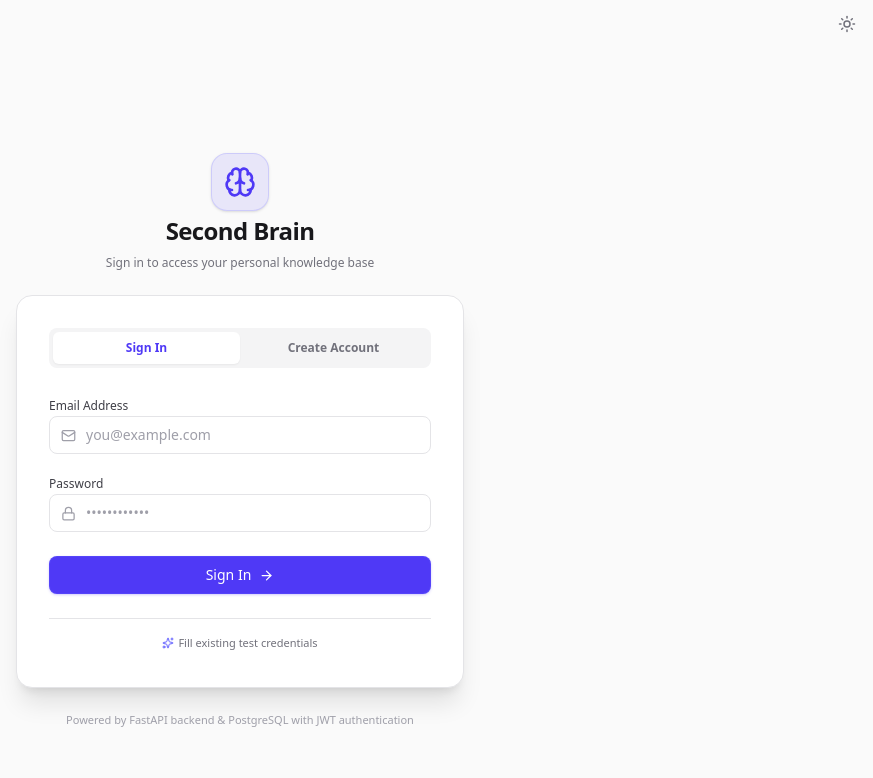
Test: AuthView and AuthContext Flow › handles login failure and shows backend error message
In the field with placeholder "you@example.com": (240, 435) [49,416,431,454], type "wrong@example.com"
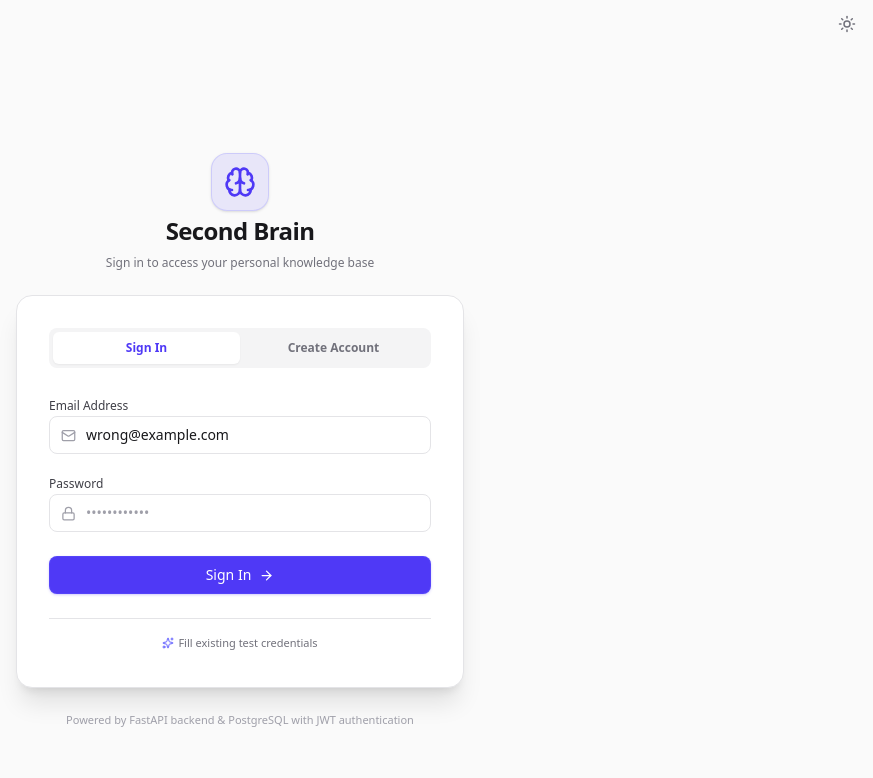
In the password field with placeholder "••••••••••••": (240, 513) [49,494,431,532], type "wrongpass"
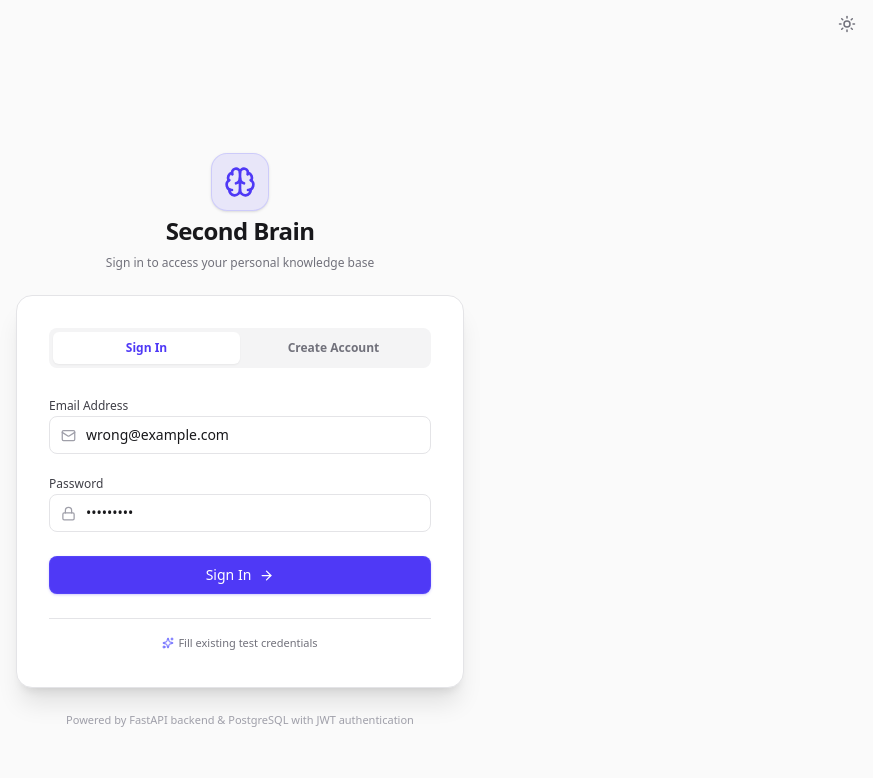
Click the button "Sign In": (240, 575) [49,556,431,594]
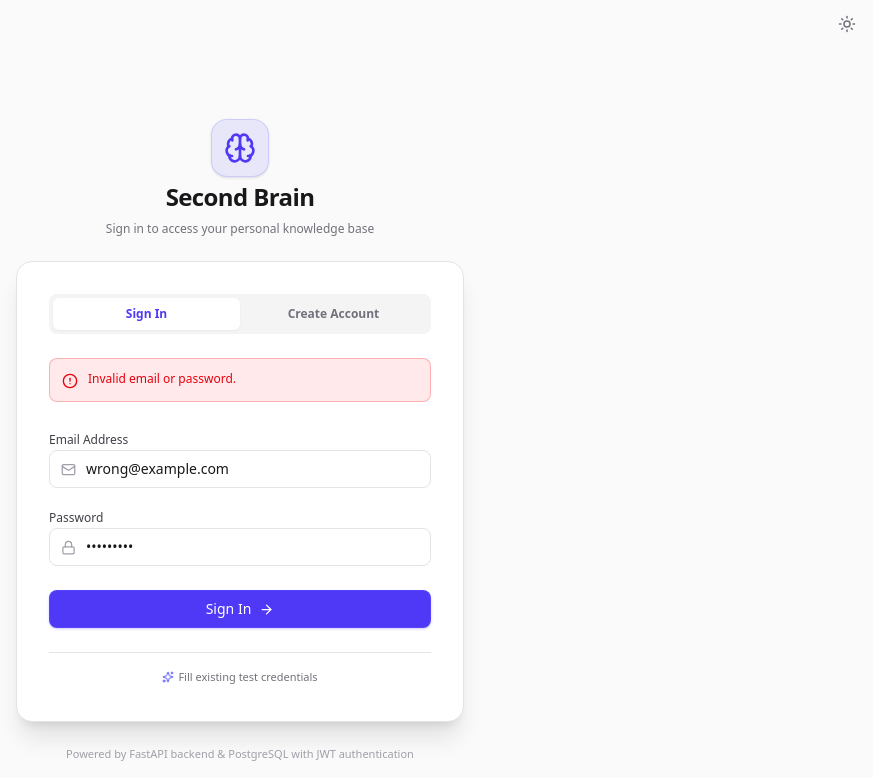
Now the text "Invalid email or password." is shown, box [88,370,236,387]
